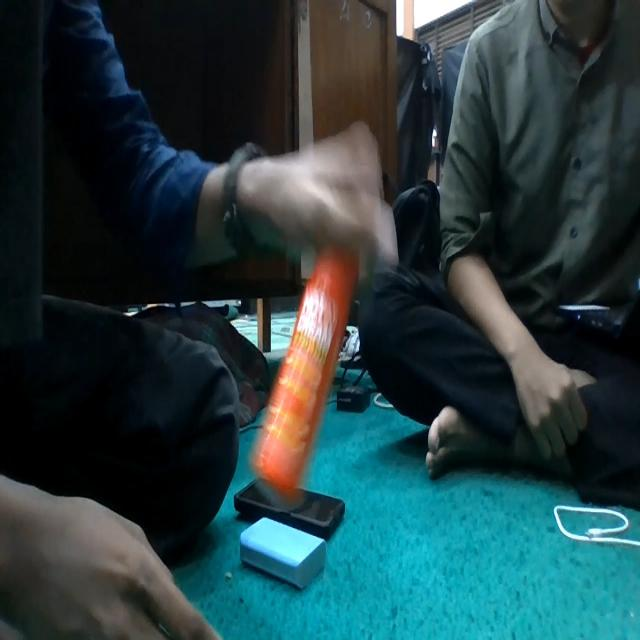Boncabe: (253, 249, 358, 503)
Powerbank: (240, 517, 326, 589)
